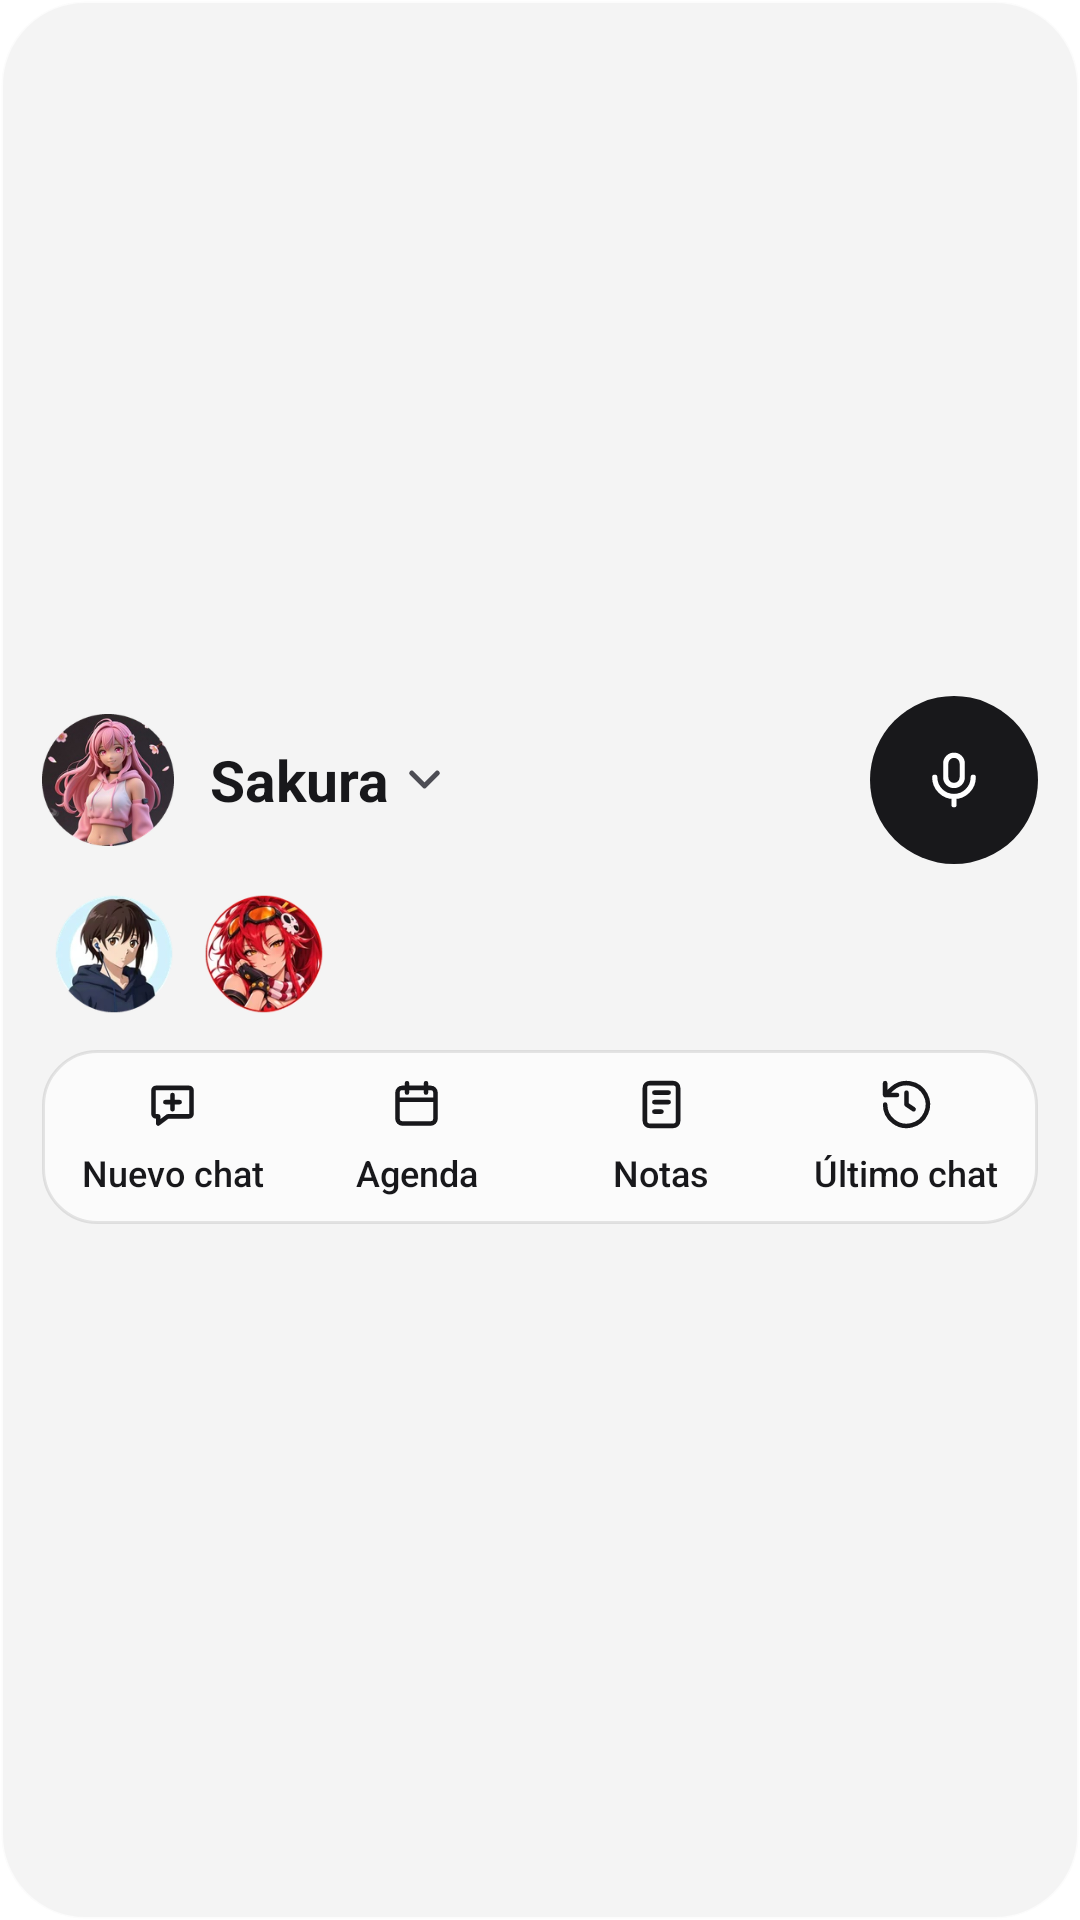

Screen size 1080w x 1920h. Icon name, then its box in pixels as (x1, y1, x2, y2):
ui history: (882, 1080, 931, 1129)
